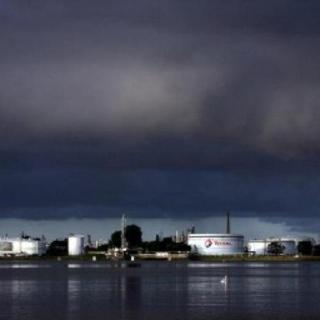Nimbostratus: (0, 0, 320, 227)
